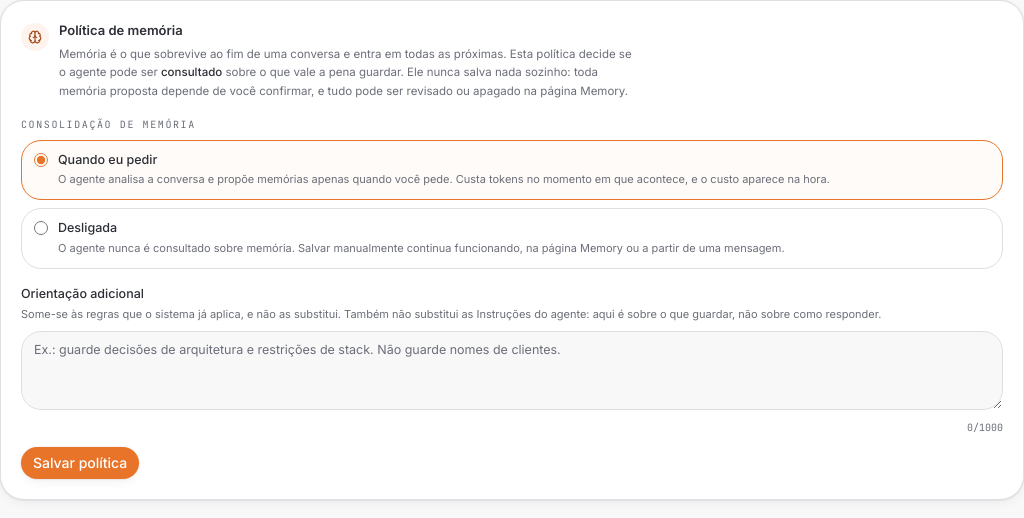
Test case: MemoryPolicyCard › sends the mode the user picked
This screenshot has width=1024, height=518.
What coordinates should you click on to do the following:
click the radio button labelled "Desligada"
I would click on:
 (41, 228)
Its box is [34,221,48,235].
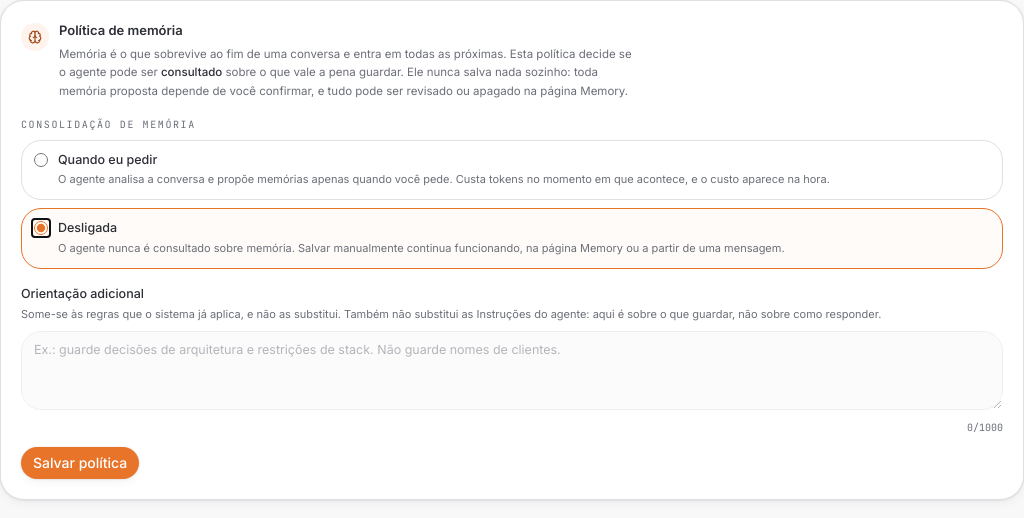
What coordinates should you click on to do the following:
click the button "Salvar política"
I would click on:
 (80, 463)
Its box is [21,447,139,479].
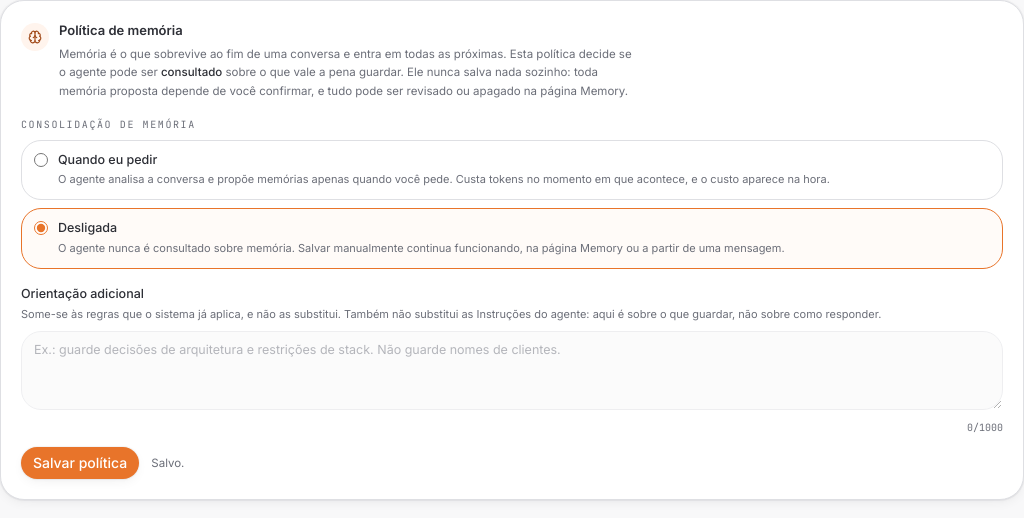
Expected: the text "Salvo." is shown, [151,455,184,472]
